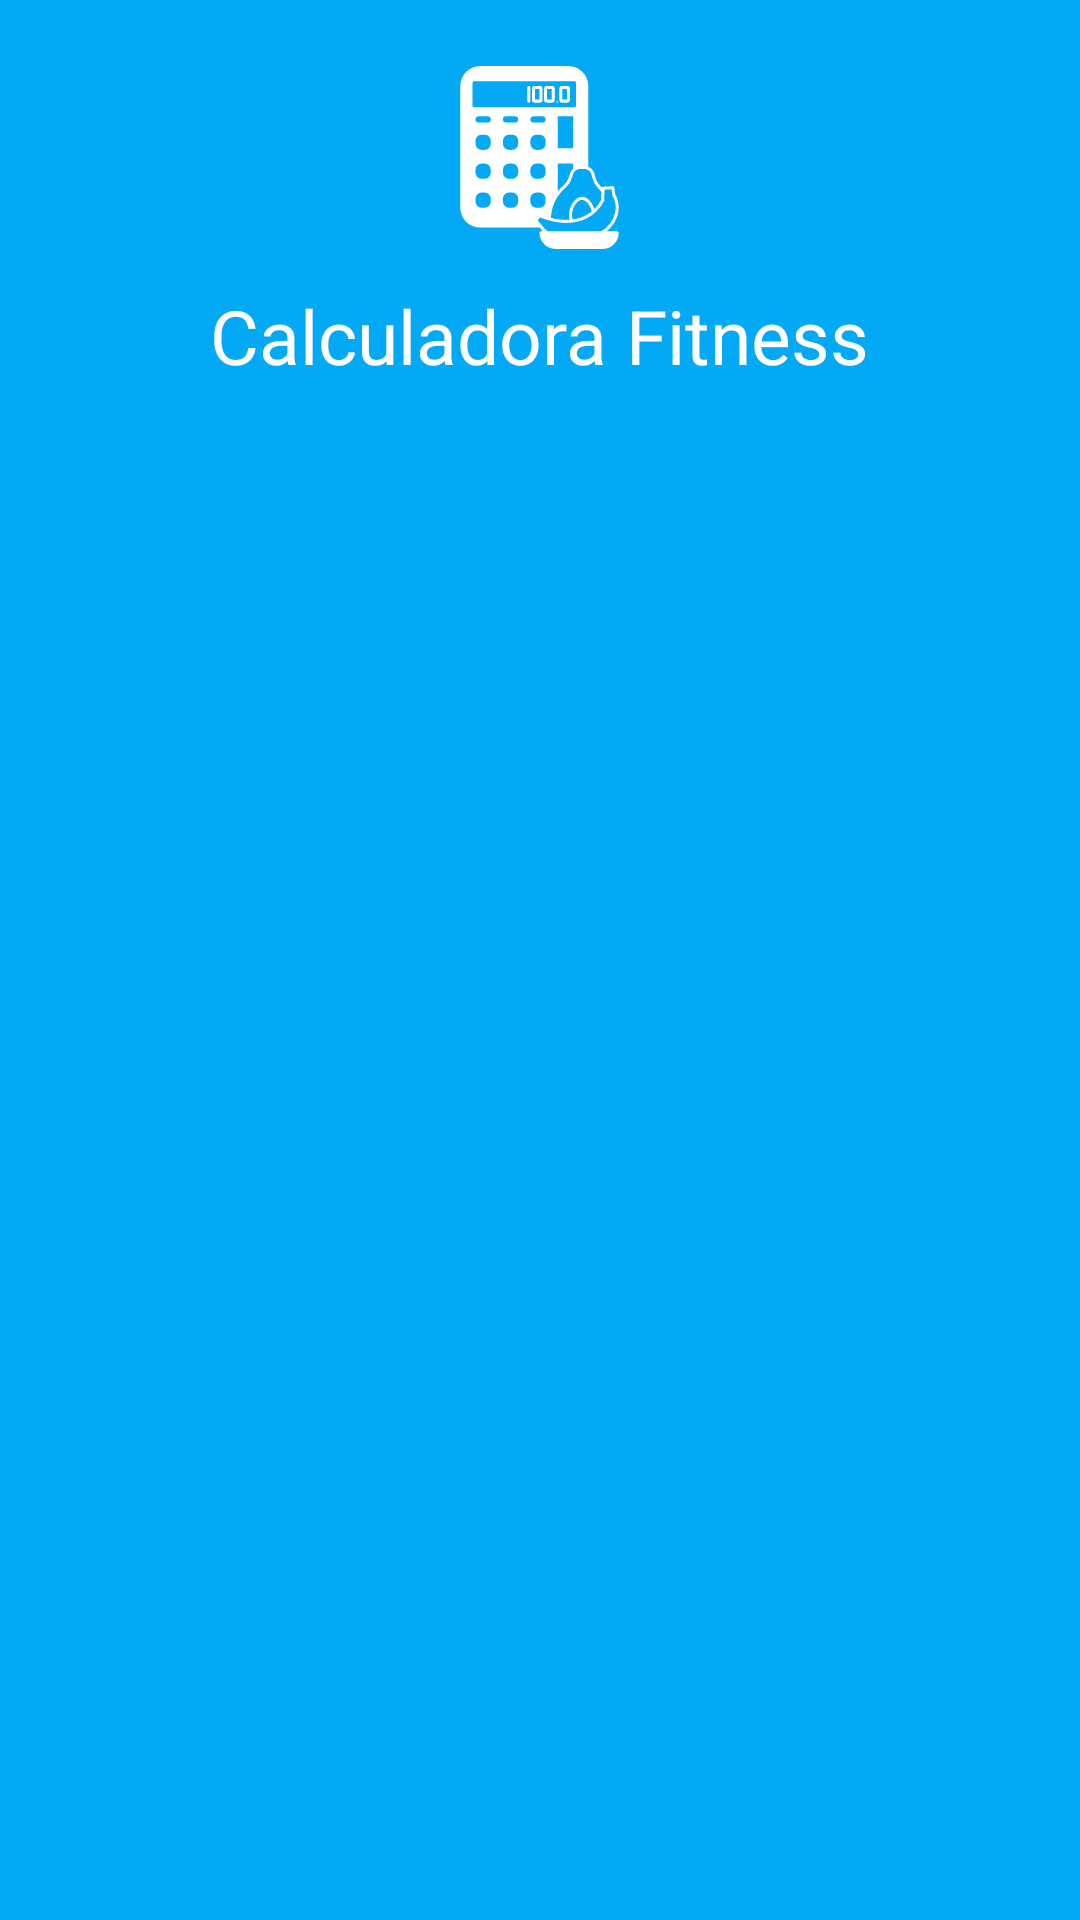

Named icons in this screenshot (1080×1920) and their centers, (x,y):
calculator: (539,157)
